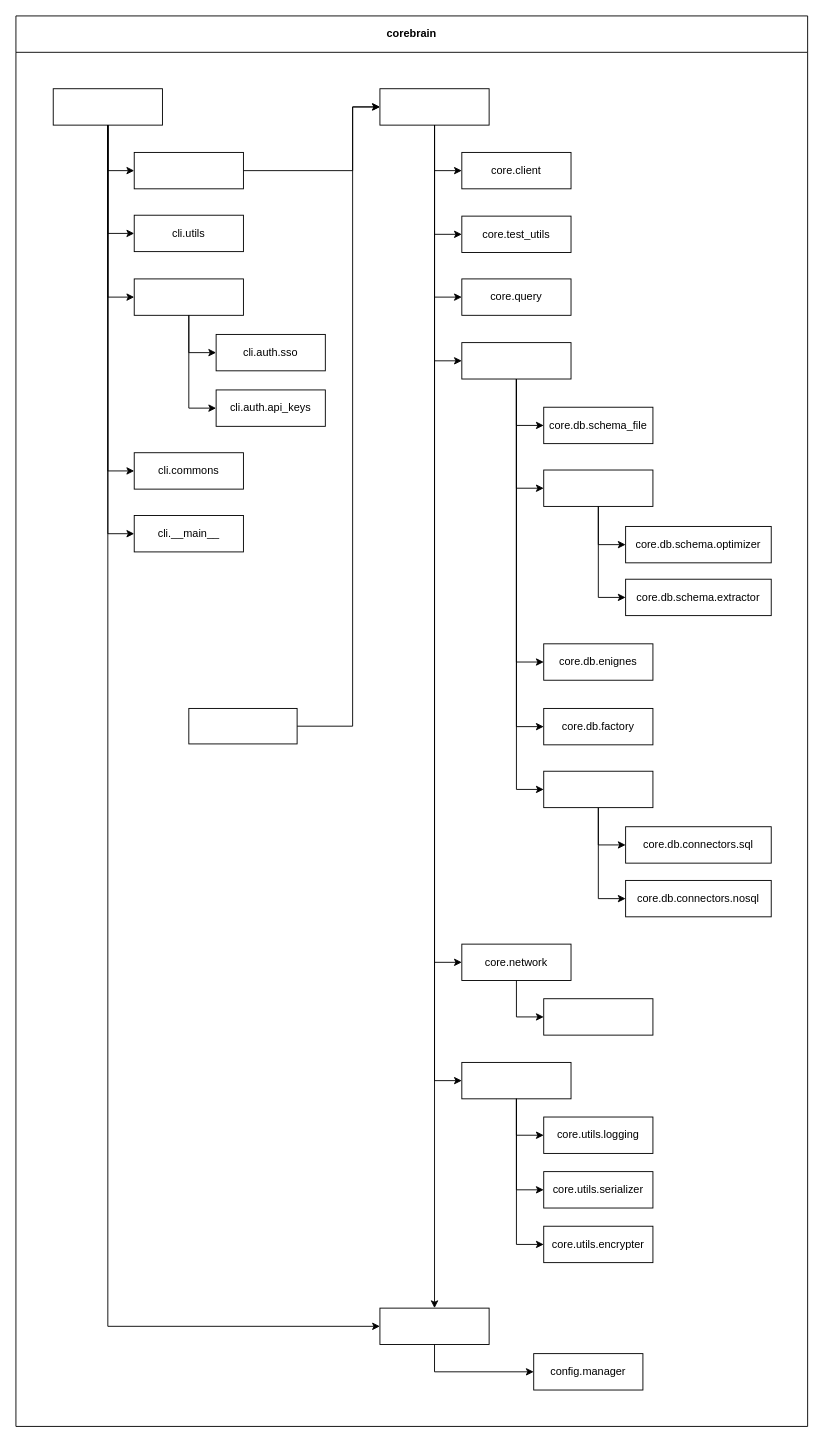
This 824x1442 diagram has some shape labels left out. The centre of each missing label's shape, as x and y in pixels:
cli: [107,106]
cli.auth: [188,296]
cli.commands: [188,170]
config: [434,1326]
core: [434,106]
core.db: [516,360]
core.db.connectors: [598,789]
core.db.schema: [598,487]
core.network.client: [598,1016]
core.utils: [516,1080]
service: [242,726]
